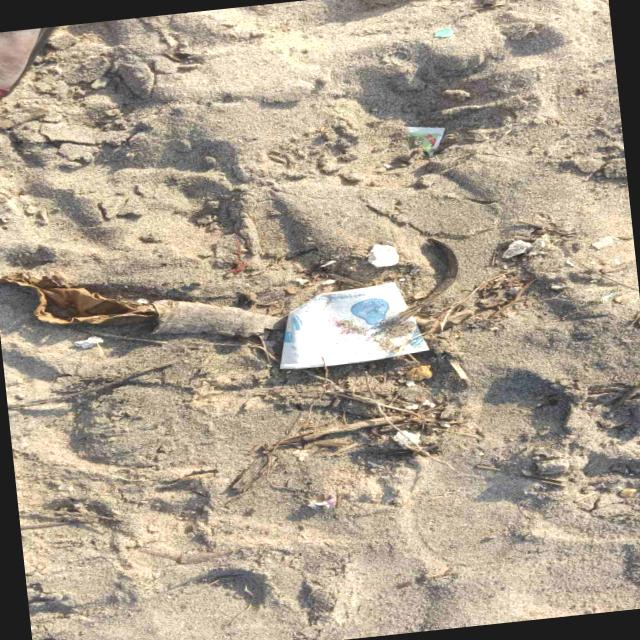ly_hop_giay: (279, 282, 428, 368)
rac_huu_co: (1, 273, 283, 336)
